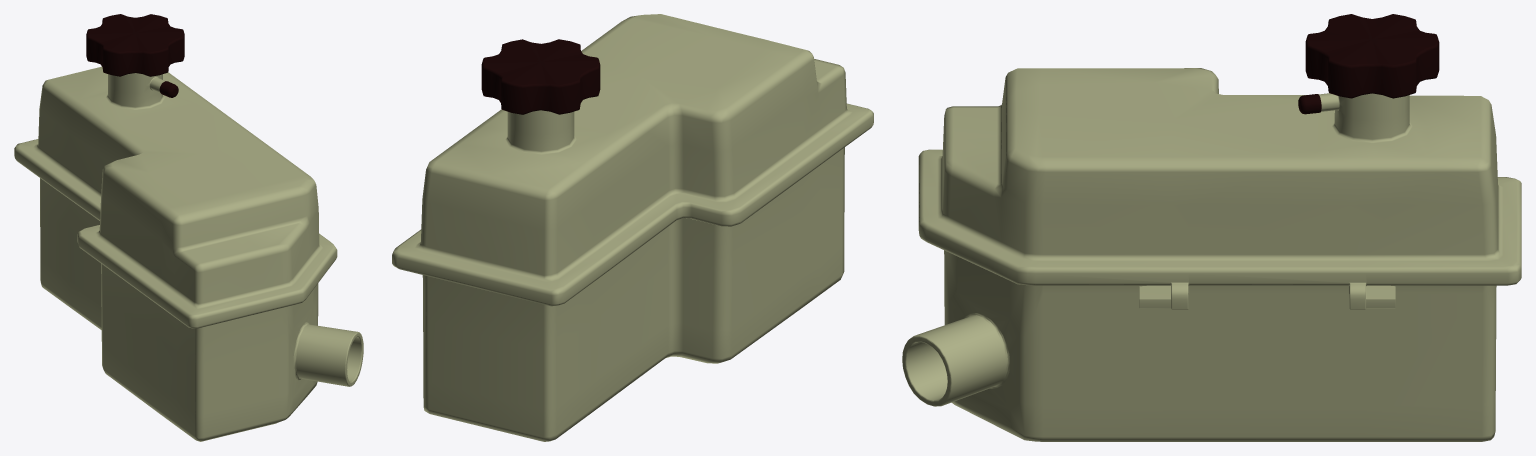
The model's file is LengQueYeHe.fbx.
3 renders of one model, left to right at view 1: azimuth 30°, elevation 25°; view 2: azimuth 150°, elevation 25°; view 3: azimuth 270°, elevation 25°, orthographic. The views are drawn at different scales.
Visible parts, largest first — view 1: LengQueYeHe; view 2: LengQueYeHe; view 3: LengQueYeHe.
Part boxes in pixels (x1=…): LengQueYeHe: x1=14, y1=14, x2=363, y2=441; LengQueYeHe: x1=392, y1=14, x2=873, y2=441; LengQueYeHe: x1=902, y1=14, x2=1521, y2=441.
Size of the model in its own units: 10.48 by 14.28 by 21.58.
